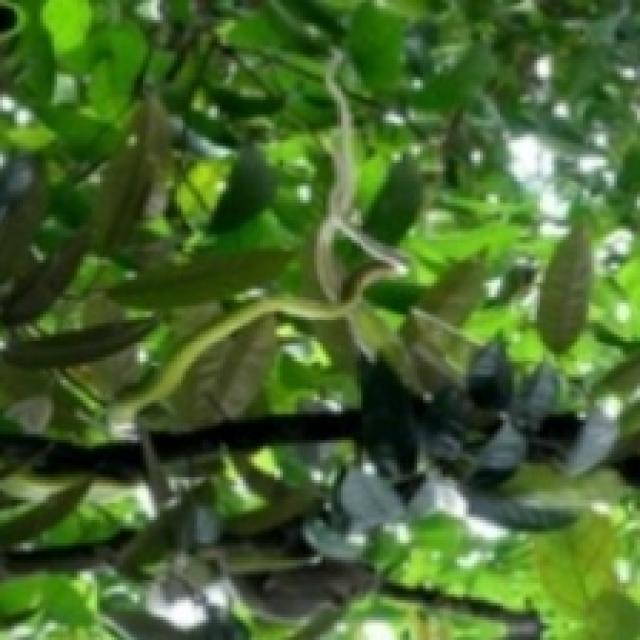red-tailed green ratsnake: (120, 50, 422, 418)
